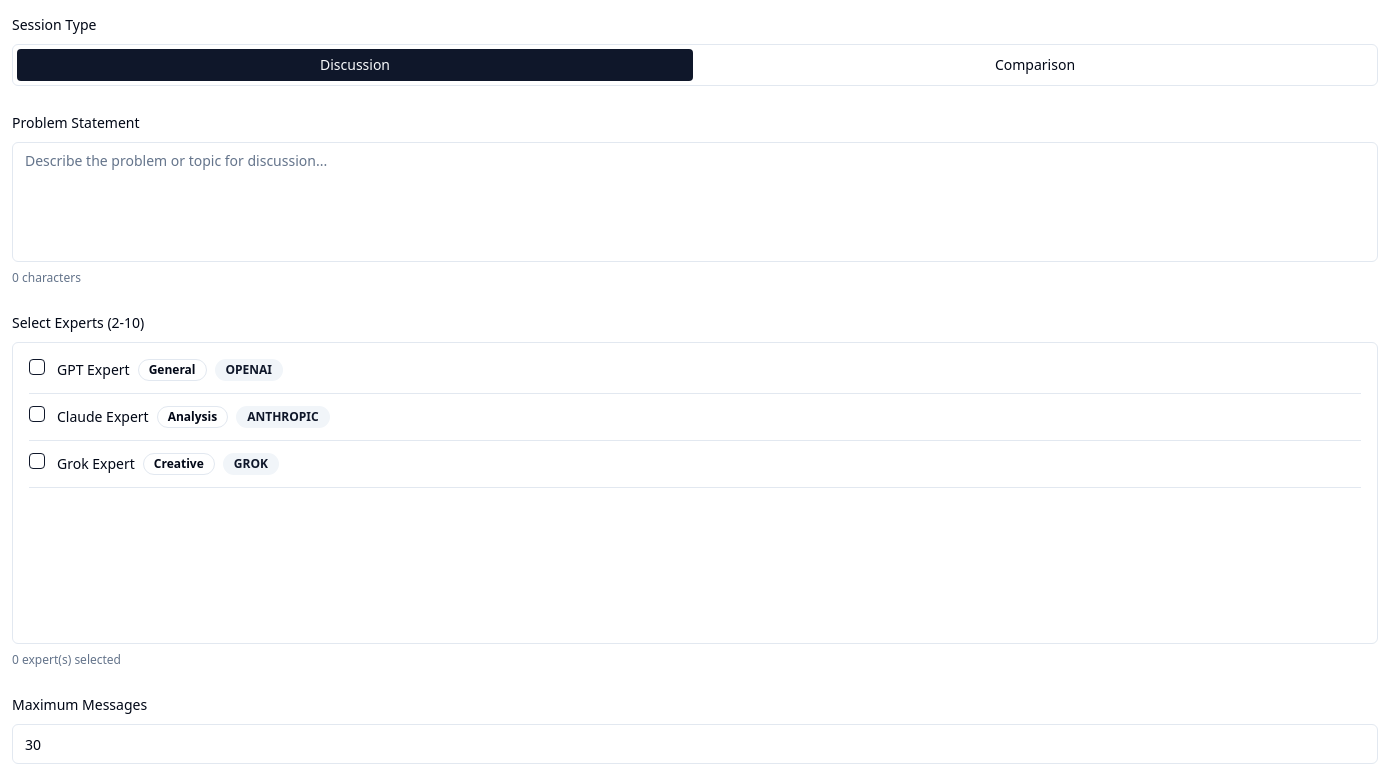
Test case: SessionForm — comparison mode type selector › should hide maxMessages field when Comparison mode is selected
Expected: the number field labelled "Maximum Messages" is shown, [12,724,1378,764]
// Switch to Comparison mode
Click the button "Comparison".
click(1035, 65)  # box [697,49,1373,81]
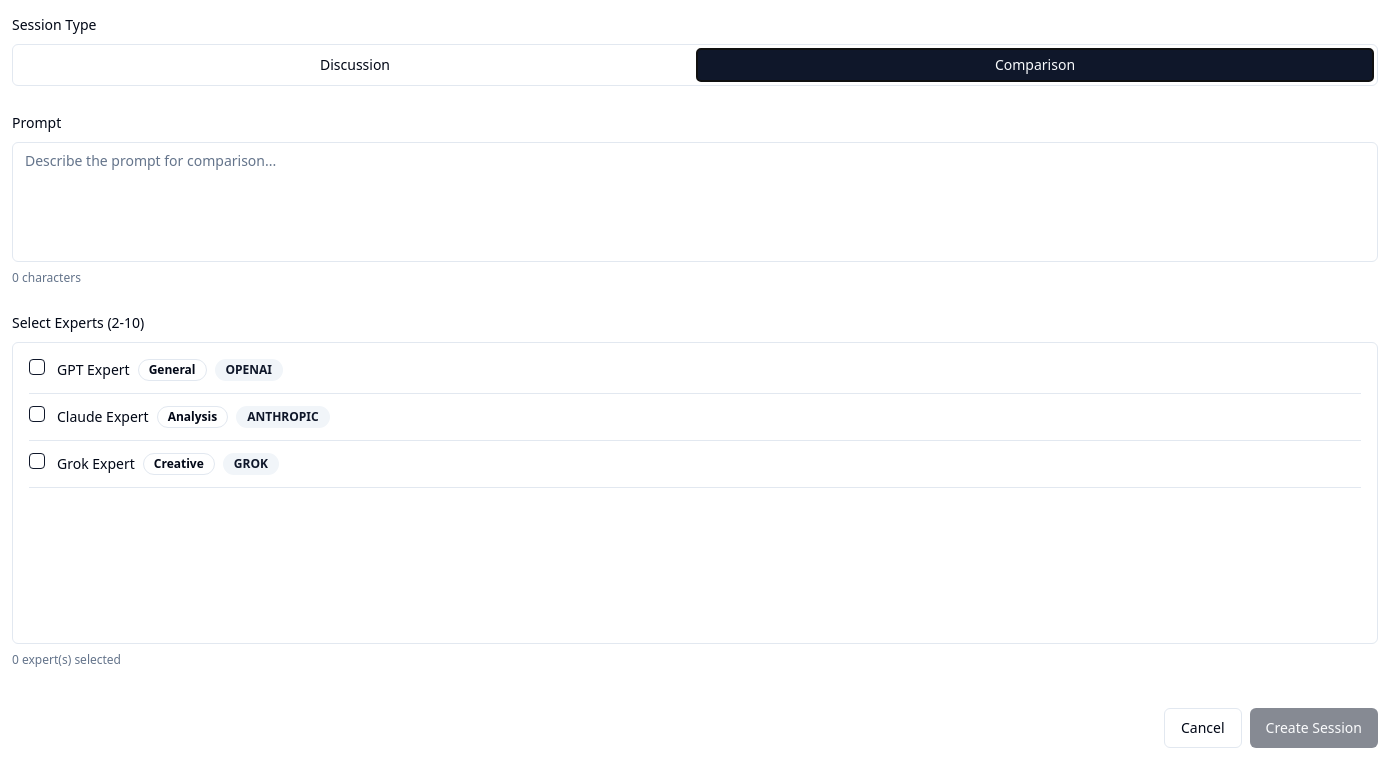
Expected: the label labelled "Maximum Messages" is gone
